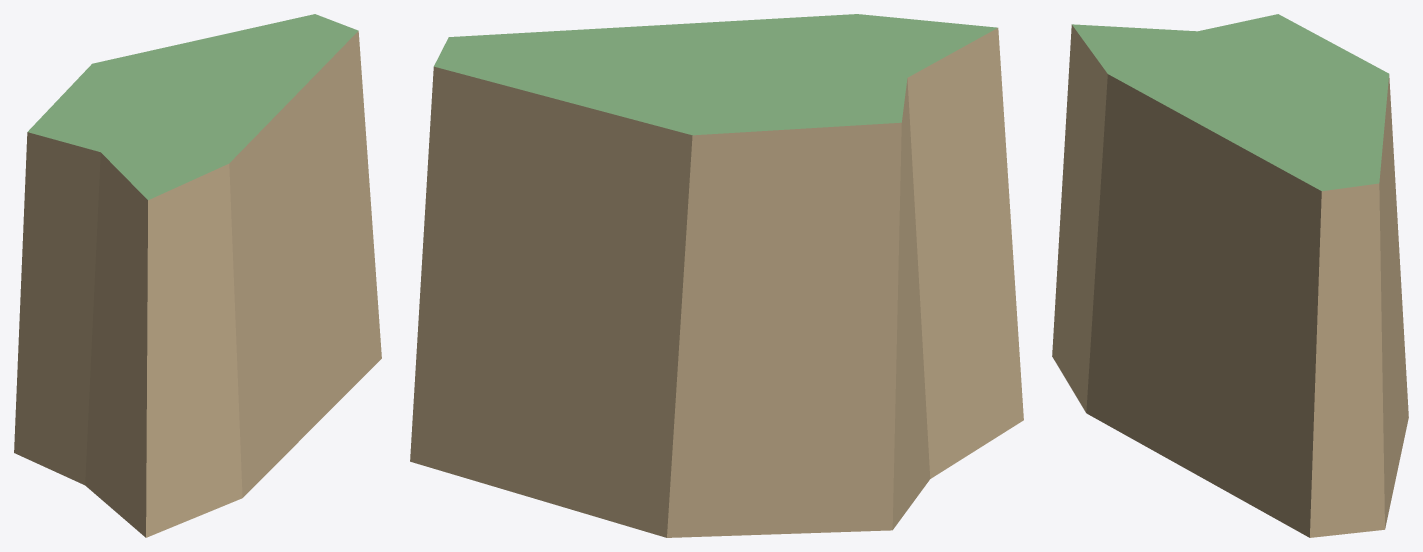
The model's file is LandPrefab.005.fbx.
3 renders of one model, left to right at view 1: azimuth 30°, elevation 25°; view 2: azimuth 150°, elevation 25°; view 3: azimuth 270°, elevation 25°, orthographic. The views are drawn at different scales.
Visible parts, largest first — view 1: LandPrefab.005; view 2: LandPrefab.005; view 3: LandPrefab.005.
Boxes of the visible parts, <box> form: LandPrefab.005: <box>14,14,381,537</box>; LandPrefab.005: <box>410,14,1023,537</box>; LandPrefab.005: <box>1052,14,1408,537</box>.
Bounding box in the file's own units: 367 × 308 × 295.
